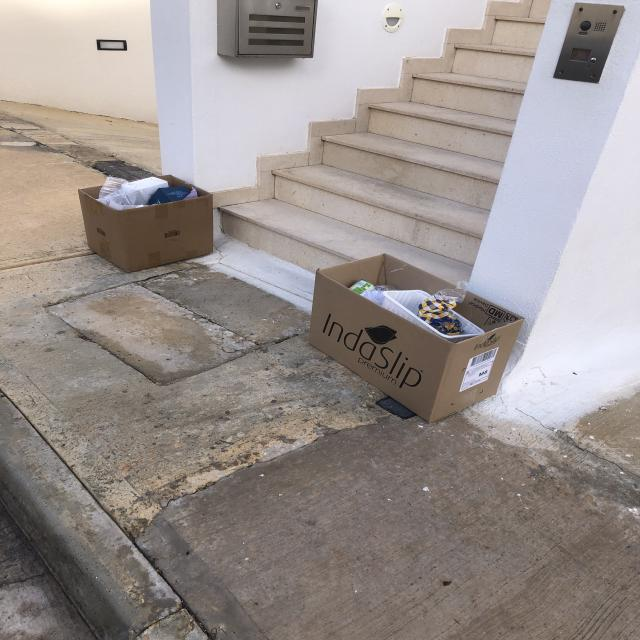Other: (308, 254, 526, 425), (79, 175, 215, 274)
